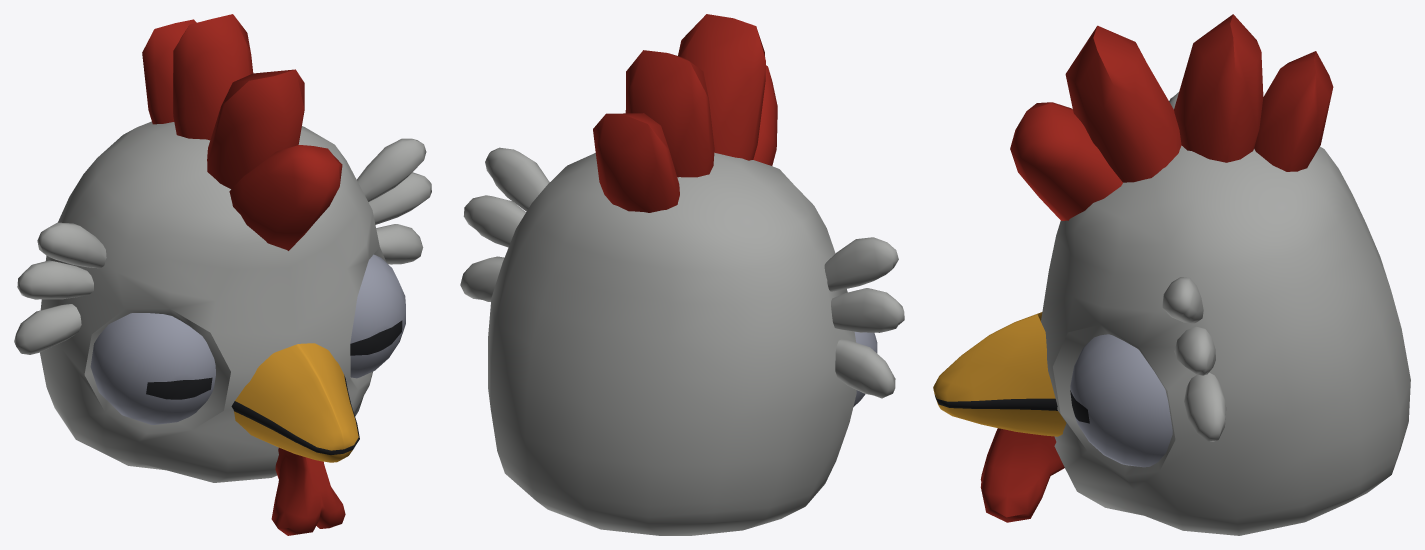
Rendered from chicken.glb.
The picture shows the model from 3 angles, left to right: view 1: azimuth 30°, elevation 25°; view 2: azimuth 150°, elevation 25°; view 3: azimuth 270°, elevation 25°; orthographic projection. The views are drawn at different scales.
Visible parts, largest first — view 1: Chicken_Blob; view 2: Chicken_Blob; view 3: Chicken_Blob.
Part boxes in pixels (box(x1,y1,x2,y2)): Chicken_Blob: box(14, 14, 431, 535); Chicken_Blob: box(460, 14, 904, 535); Chicken_Blob: box(933, 14, 1410, 535).
Size of the model in its own units: 2.35 by 2.39 by 2.12.
Materials: 1 (1 with a texture image).
